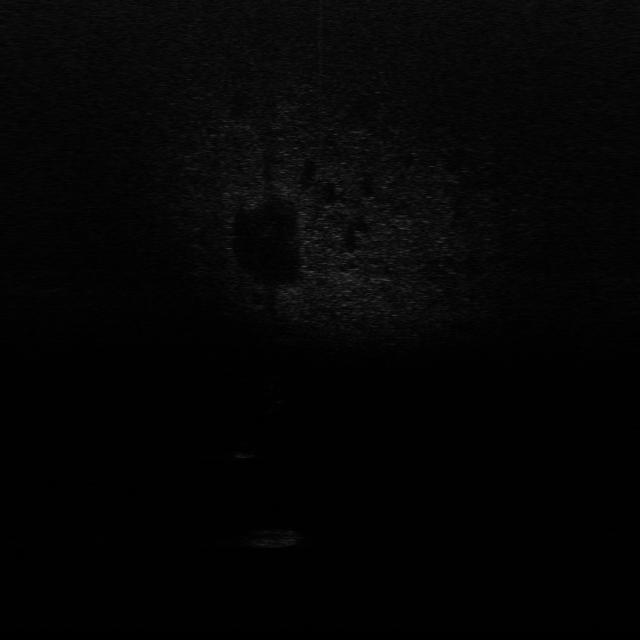ball: (232, 441, 260, 463)
circle cage: (236, 523, 306, 552)
